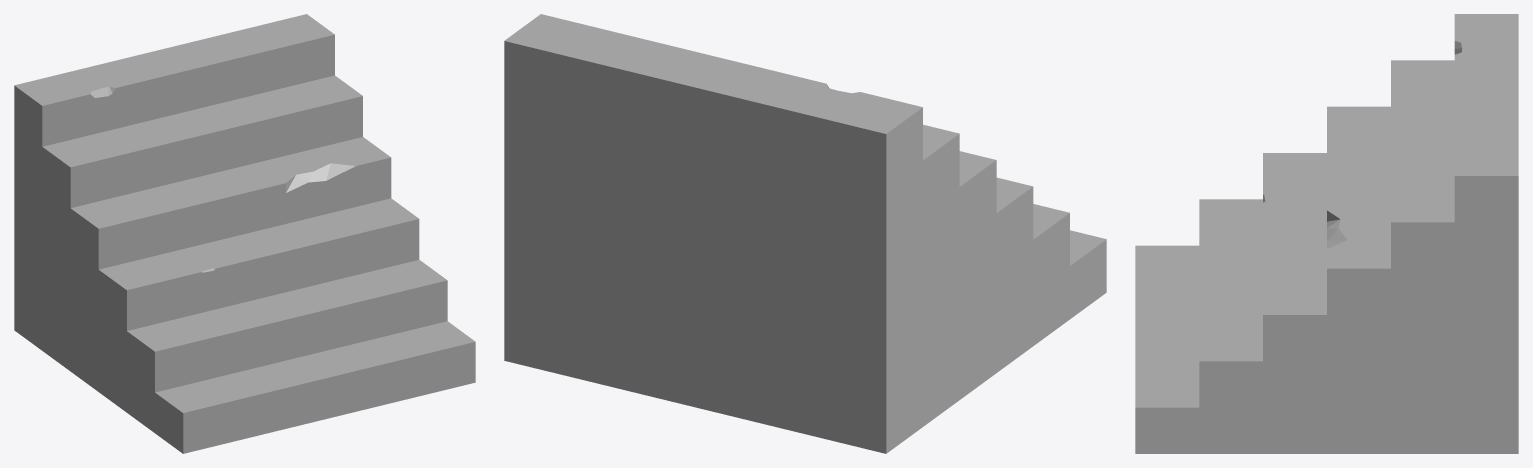
File: Wh_Concrete_Stairs.fbx
3 views of the same model, side by side, from view 1: azimuth 30°, elevation 25°; view 2: azimuth 150°, elevation 25°; view 3: azimuth 270°, elevation 25° (orthographic). The views are drawn at different scales.
Parts seen in each view (by area): view 1: Cube.638; view 2: Cube.638; view 3: Cube.638.
Part boxes in pixels (x1=…): Cube.638: x1=14, y1=14, x2=475, y2=453; Cube.638: x1=504, y1=14, x2=1106, y2=453; Cube.638: x1=1135, y1=14, x2=1518, y2=453.
Size of the model in its own units: 150 by 120 by 150.
